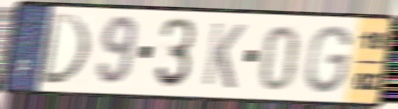0: (258, 23, 303, 93)
3: (154, 16, 198, 91)
9: (95, 13, 139, 90)
D: (37, 11, 92, 88)
G: (303, 23, 354, 96)
K: (200, 19, 248, 91)
